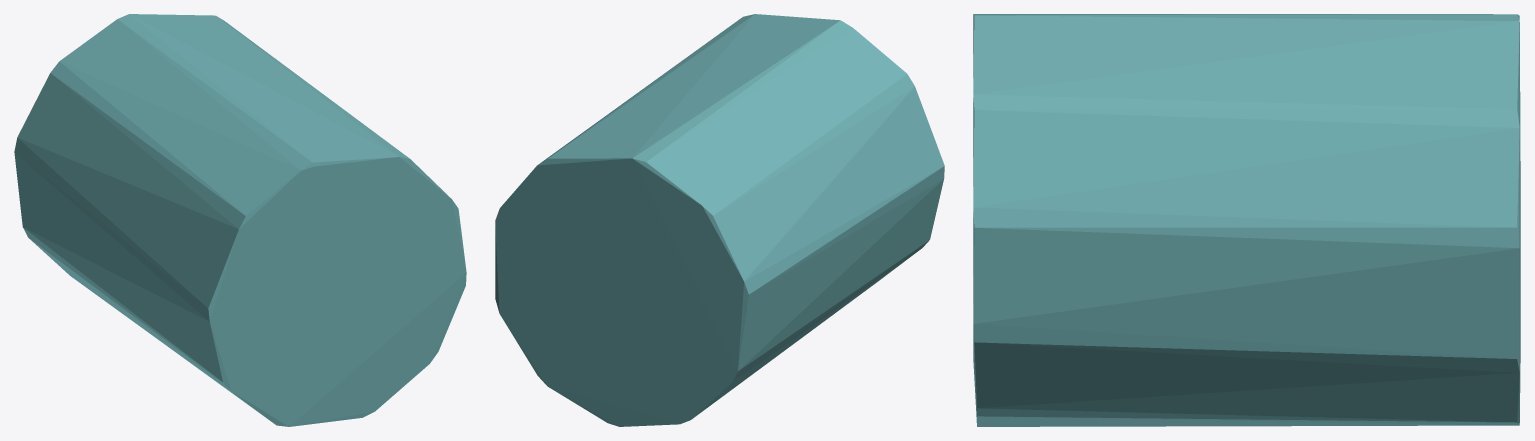
The model's file is handTool_socket_13_16in_a01.glb.
The picture shows the model from 3 angles, left to right: view 1: azimuth 30°, elevation 25°; view 2: azimuth 150°, elevation 25°; view 3: azimuth 270°, elevation 25°; orthographic projection. The views are drawn at different scales.
Parts seen in each view (by area): view 1: geometry_0; view 2: geometry_0; view 3: geometry_0.
Boxes of the visible parts, x1,y1,x2,y2 form: geometry_0: (14, 14, 466, 426); geometry_0: (495, 14, 944, 426); geometry_0: (973, 14, 1520, 426).
Size of the model in its own units: 0.363 by 0.3663 by 0.48.
